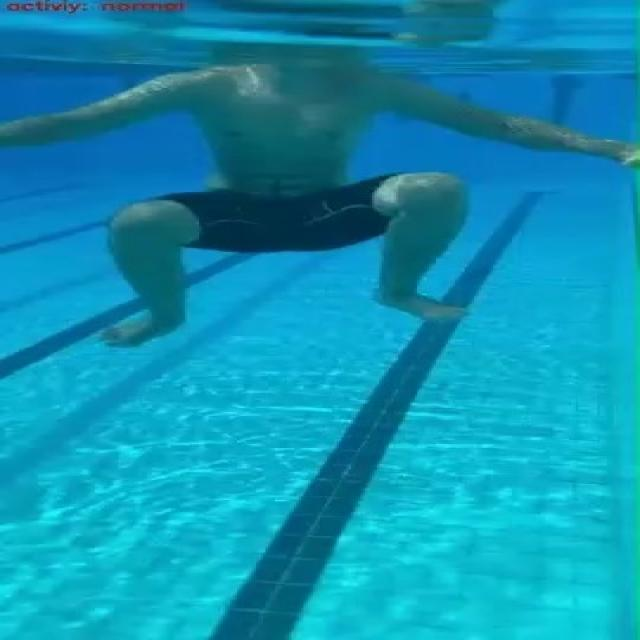Drowning: (1, 65, 638, 345)
